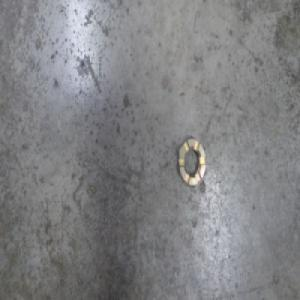Nut: (177, 134, 206, 189)
